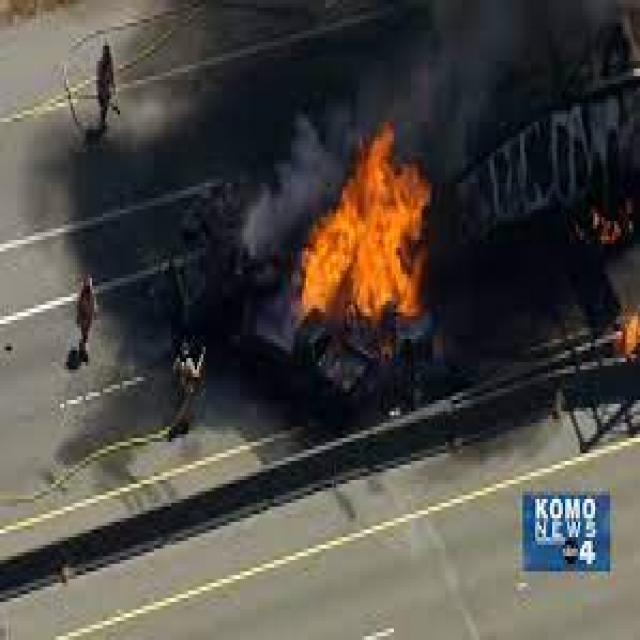fire: (296, 125, 432, 328), (618, 316, 640, 361)
smoke: (355, 8, 503, 122), (236, 149, 296, 274), (291, 122, 338, 221)
